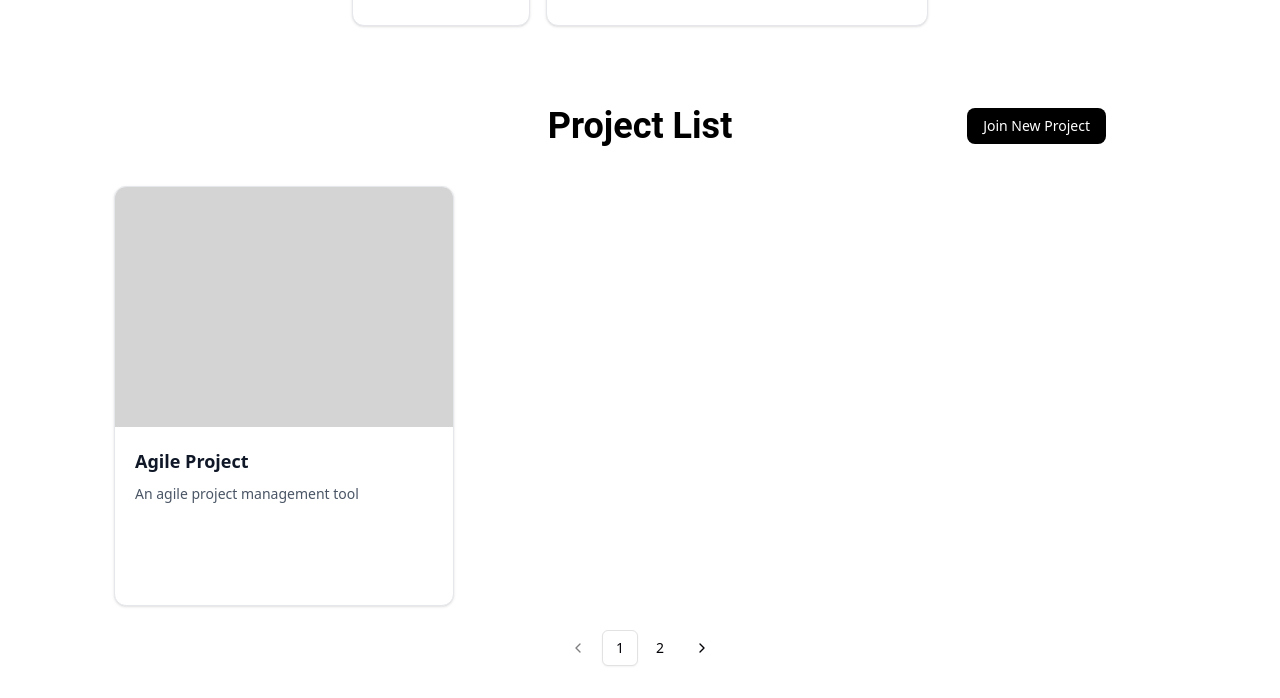
Dashboard - 통합 테스트 › 페이지네이션 › 사용자가 페이지를 변경할 수 있다 (여러 페이지가 있을 때)
(page scrolled)
Expected: the heading "Agile Project" is shown, [135,449,249,473]
페이지 2 링크 클릭
Click the link "2": (660, 648) [656,638,664,657]
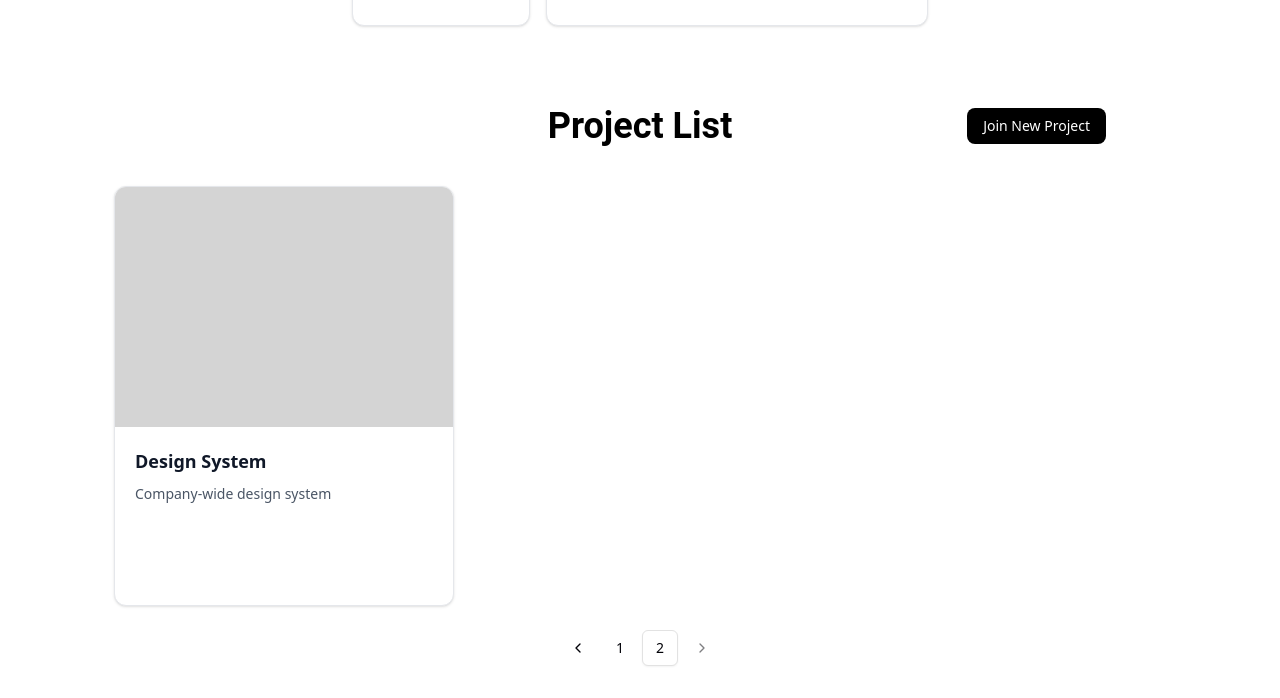
Expected: the link "Agile Project" is gone
Expected: the heading "Design System" is shown, [135,449,266,473]
